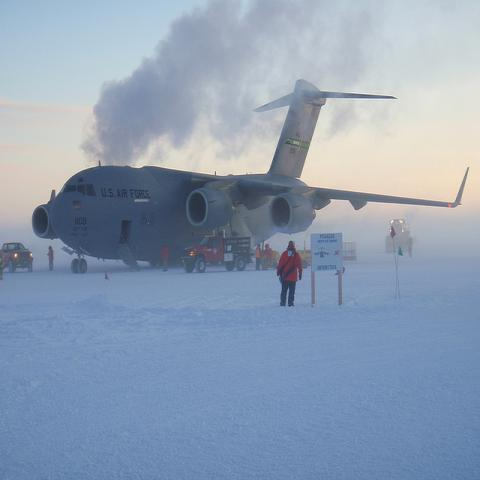truck: (183, 235, 255, 273), (1, 241, 34, 274)
